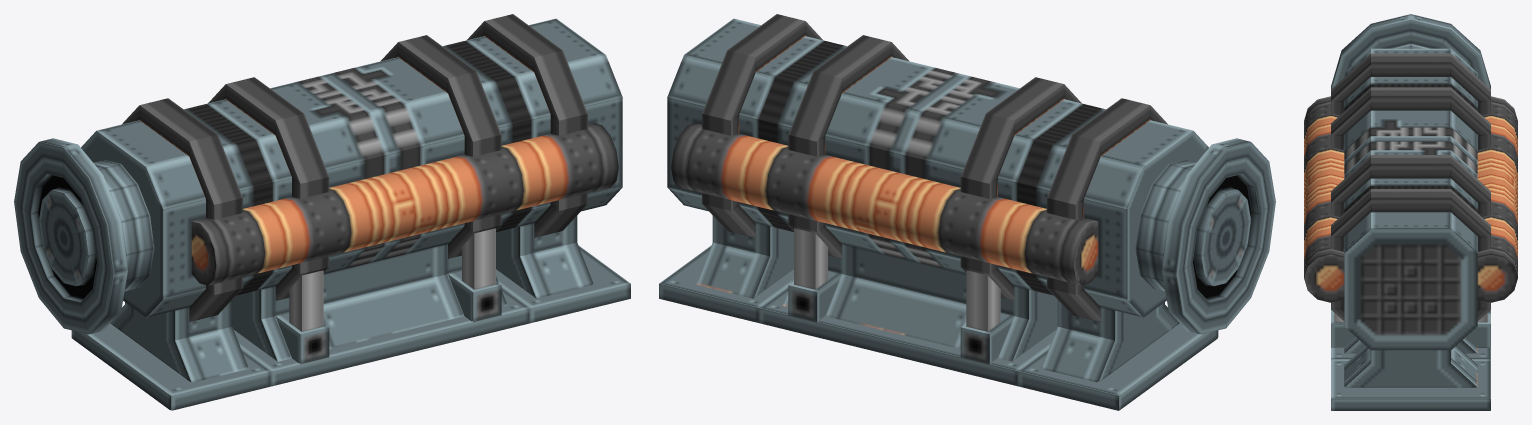
Rendered from boiler_fusion.obj.
3 views of the same model, side by side, from view 1: azimuth 30°, elevation 25°; view 2: azimuth 150°, elevation 25°; view 3: azimuth 270°, elevation 25° (orthographic). The views are drawn at different scales.
Visible parts, largest first — view 1: Boiler; view 2: Boiler; view 3: Boiler.
Boxes of the visible parts, box(x1,y1,x2,y2) form: Boiler: box(14, 14, 630, 410); Boiler: box(659, 14, 1275, 410); Boiler: box(1304, 14, 1517, 410).
Bounding box in the file's own units: 9 × 4 × 4.
